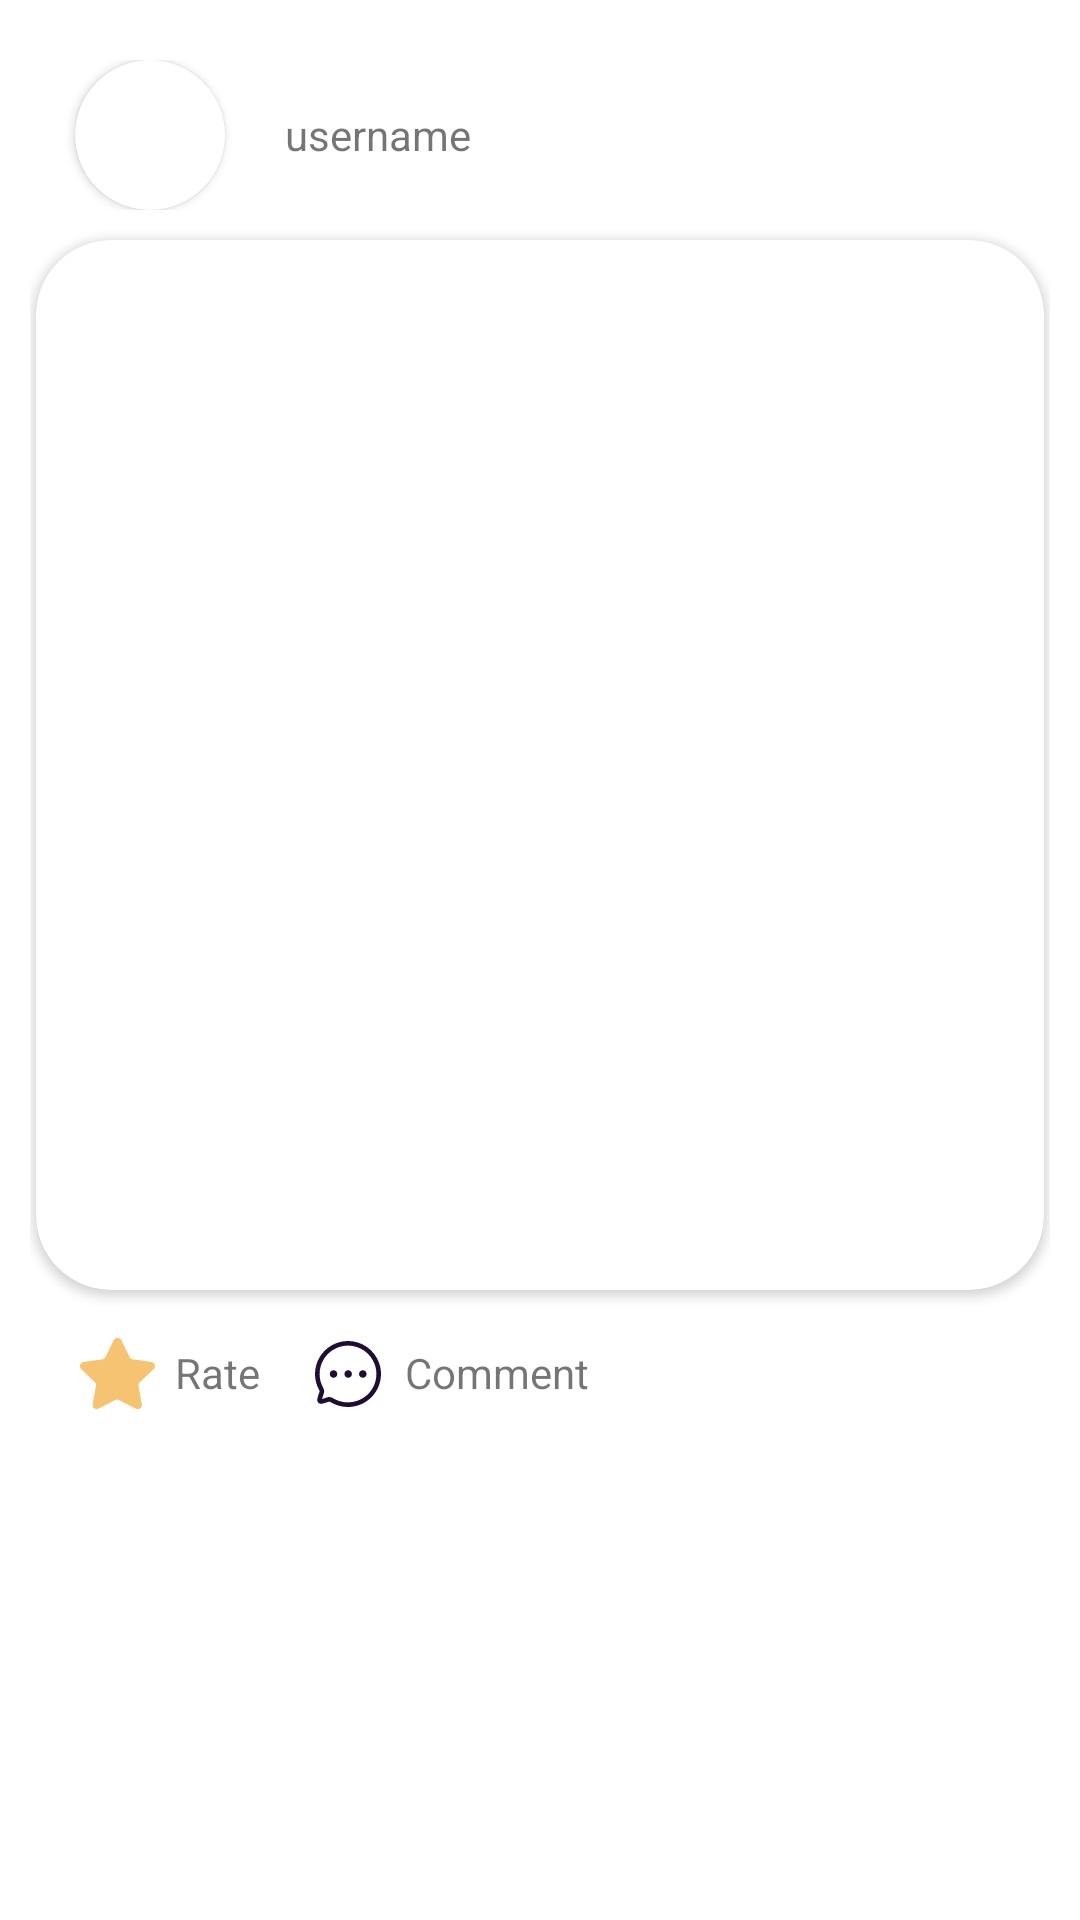

Icons on this 1080*1920 Android screen, each with the point to tap as point (x, y):
chat: point (348, 1374)
star: point (117, 1374)
